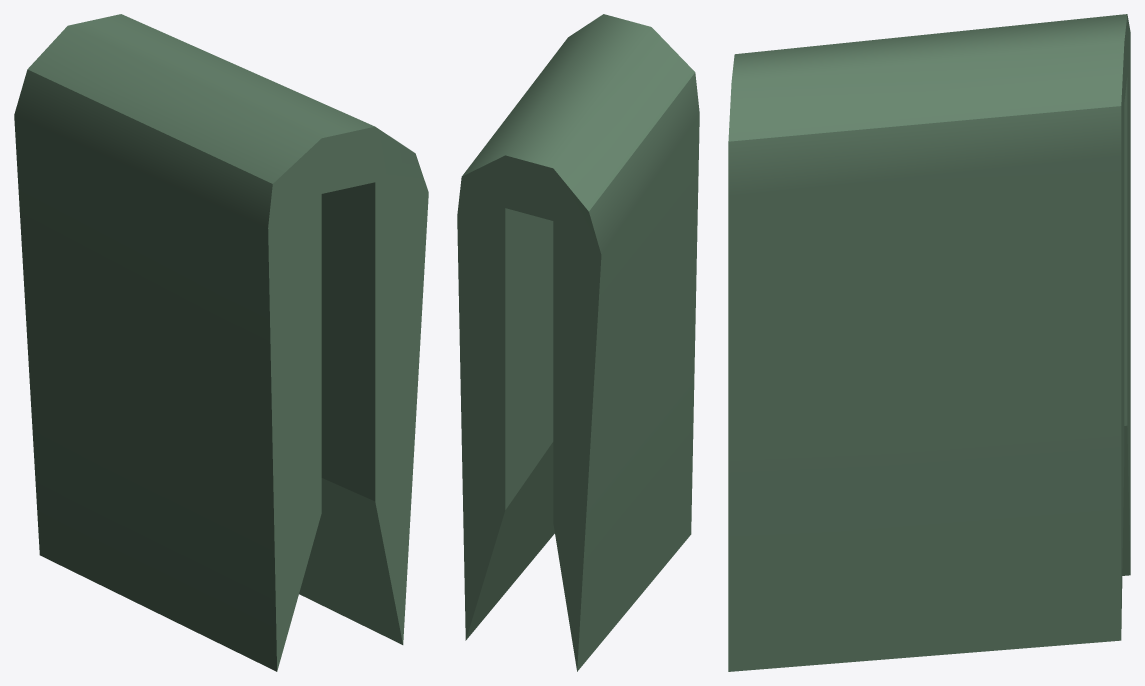
The model's file is Towel Small.fbx.
3 views of the same model, side by side, from view 1: azimuth 30°, elevation 25°; view 2: azimuth 150°, elevation 25°; view 3: azimuth 270°, elevation 25° (orthographic). The views are drawn at different scales.
Visible parts, largest first — view 1: pCube53; view 2: pCube53; view 3: pCube53.
Part boxes in pixels (x1,y1,x2,y2): pCube53: [14, 14, 428, 671]; pCube53: [457, 14, 699, 671]; pCube53: [728, 14, 1130, 671].
Bounding box in the file's own units: 7.81 × 16.9 × 10.7.
